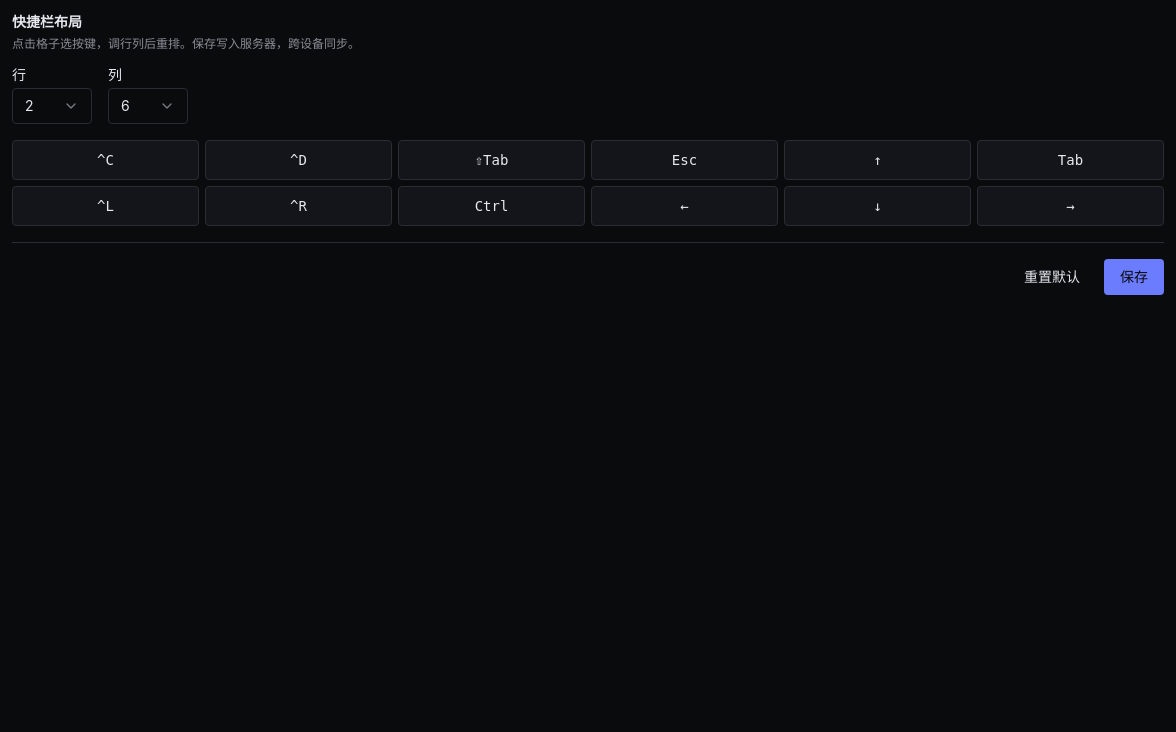
Scenario: ToolbarConfigSection › clear cell sets it to empty placeholder
Click the button "^C": click(106, 160) [12,140,199,180]
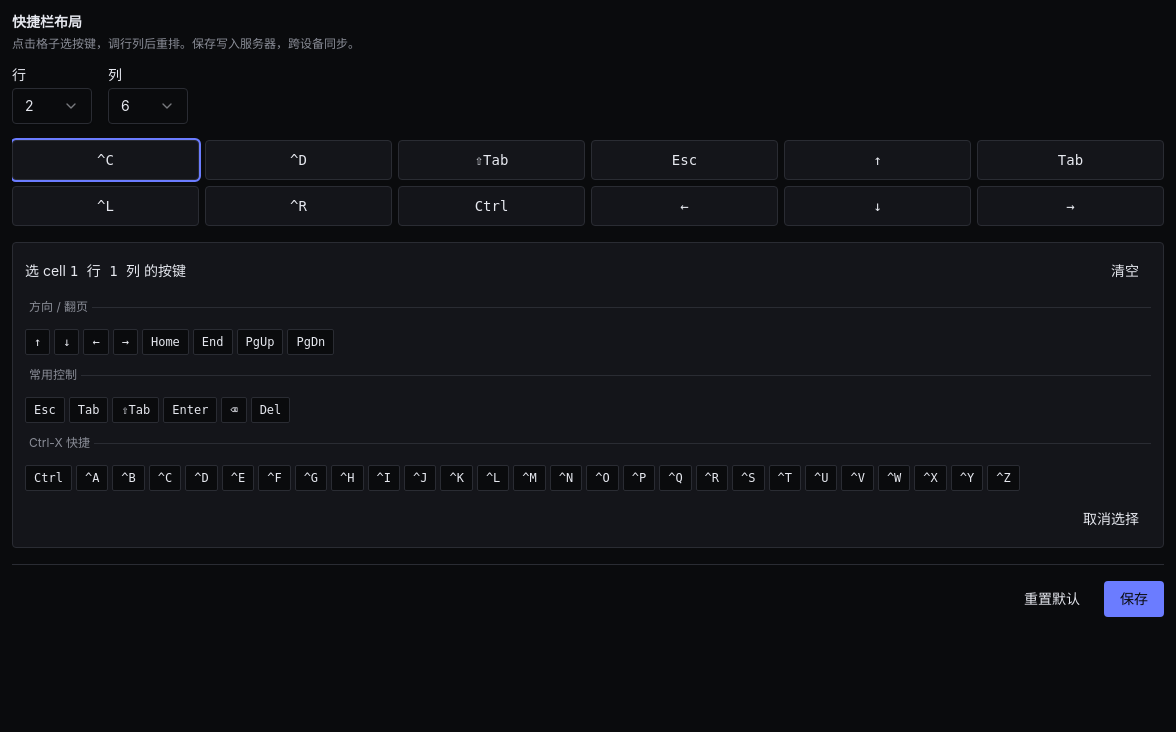
Click the button "清空": click(1125, 271) [1099,255,1151,287]
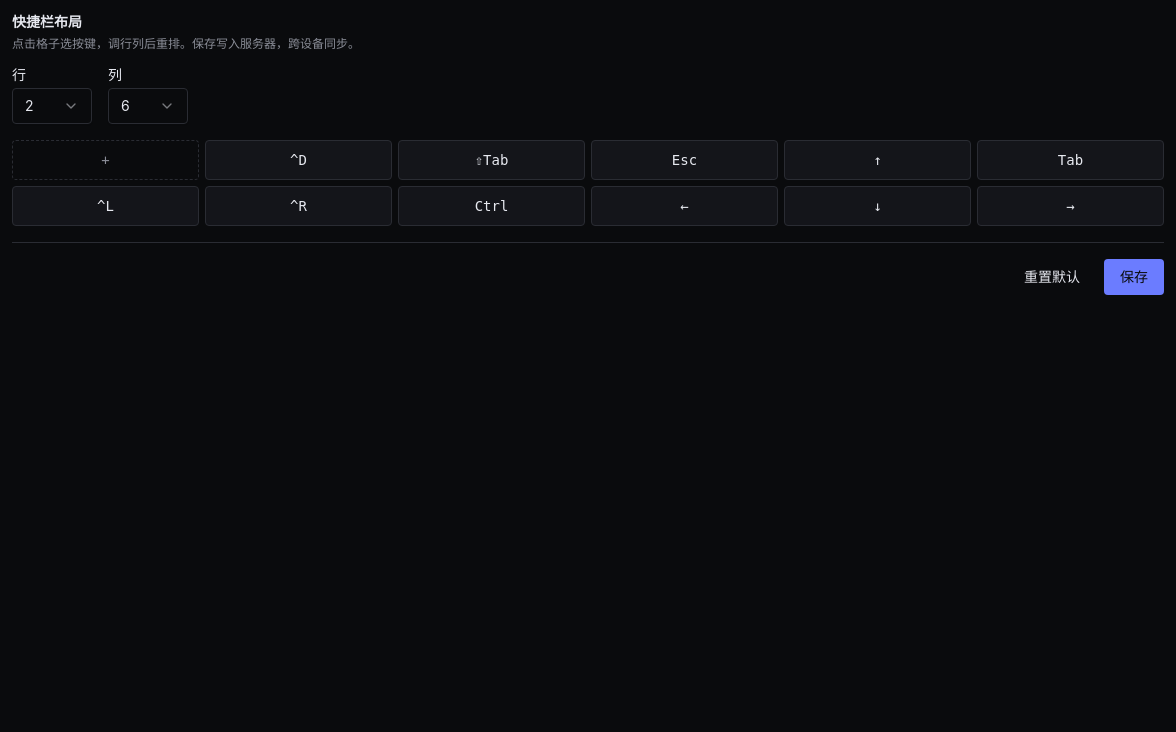
Check: the button "+" is shown, box [12,140,199,180]
